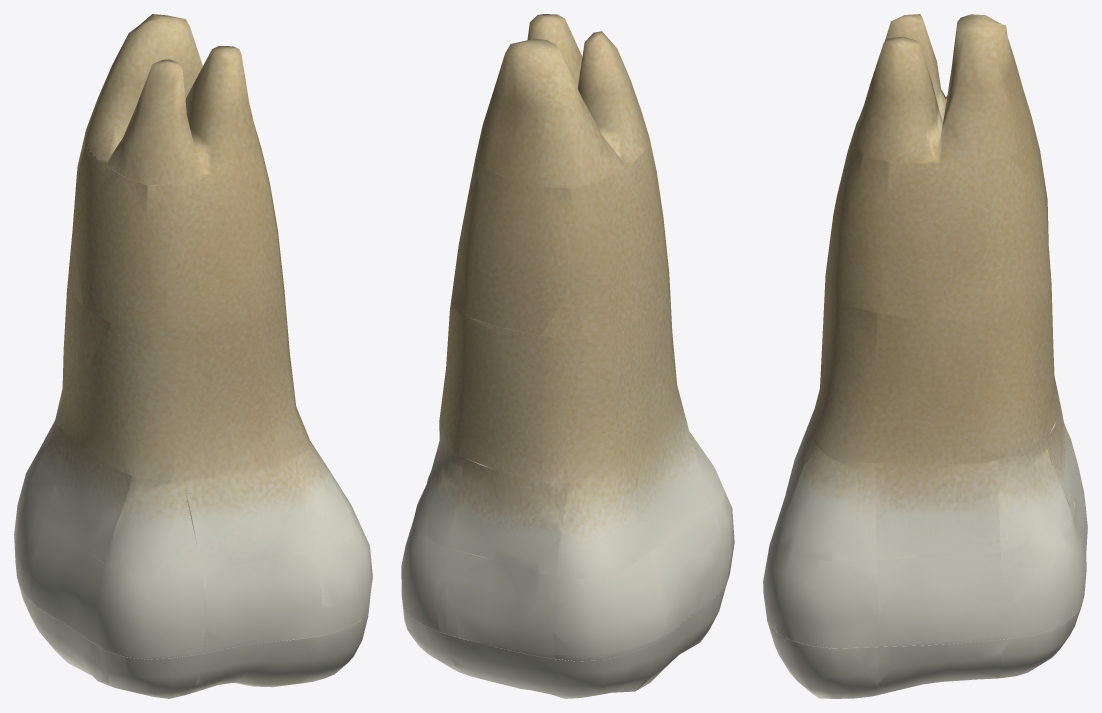
Rendered from Right_Upper_Wisdom.glb.
The picture shows the model from 3 angles, left to right: view 1: azimuth 30°, elevation 25°; view 2: azimuth 150°, elevation 25°; view 3: azimuth 270°, elevation 25°; orthographic projection. The views are drawn at different scales.
Parts seen in each view (by area): view 1: Human_Teeth_Upper_Third_Molar_Wisdom_Geo.004; view 2: Human_Teeth_Upper_Third_Molar_Wisdom_Geo.004; view 3: Human_Teeth_Upper_Third_Molar_Wisdom_Geo.004.
Part boxes in pixels (x1,y1,x2,y2): Human_Teeth_Upper_Third_Molar_Wisdom_Geo.004: (14,14,372,698); Human_Teeth_Upper_Third_Molar_Wisdom_Geo.004: (401,14,734,698); Human_Teeth_Upper_Third_Molar_Wisdom_Geo.004: (763,14,1087,698).
Bounding box in the file's own units: 1.41 × 3.21 × 1.49.
Materials: 30 (30 with a texture image).
